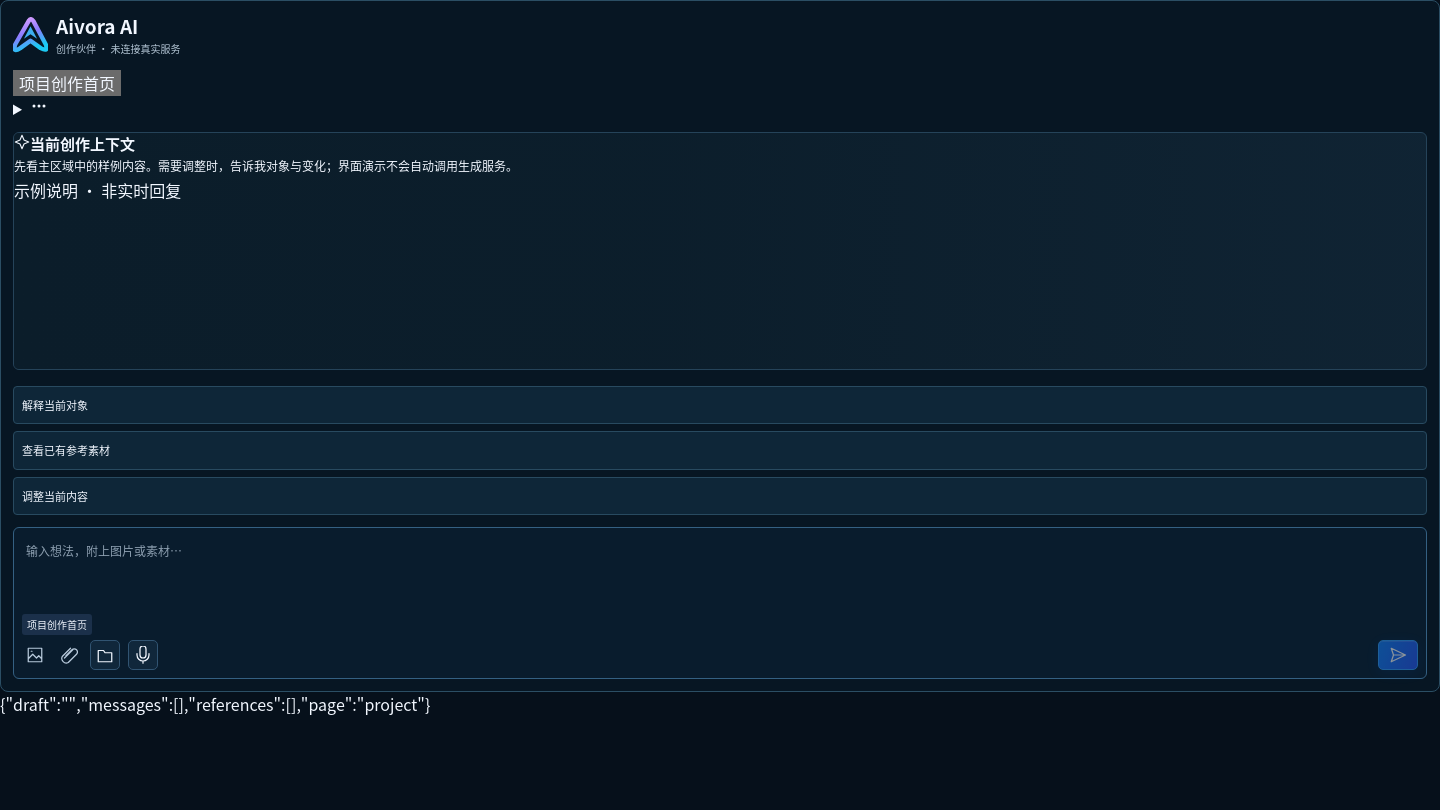
it: assistant panel local-only interaction › adds a chosen reference through the local editor without contacting an AI service
Click the button named "引用素材": [105, 655] box left=90, top=640, right=120, bottom=670
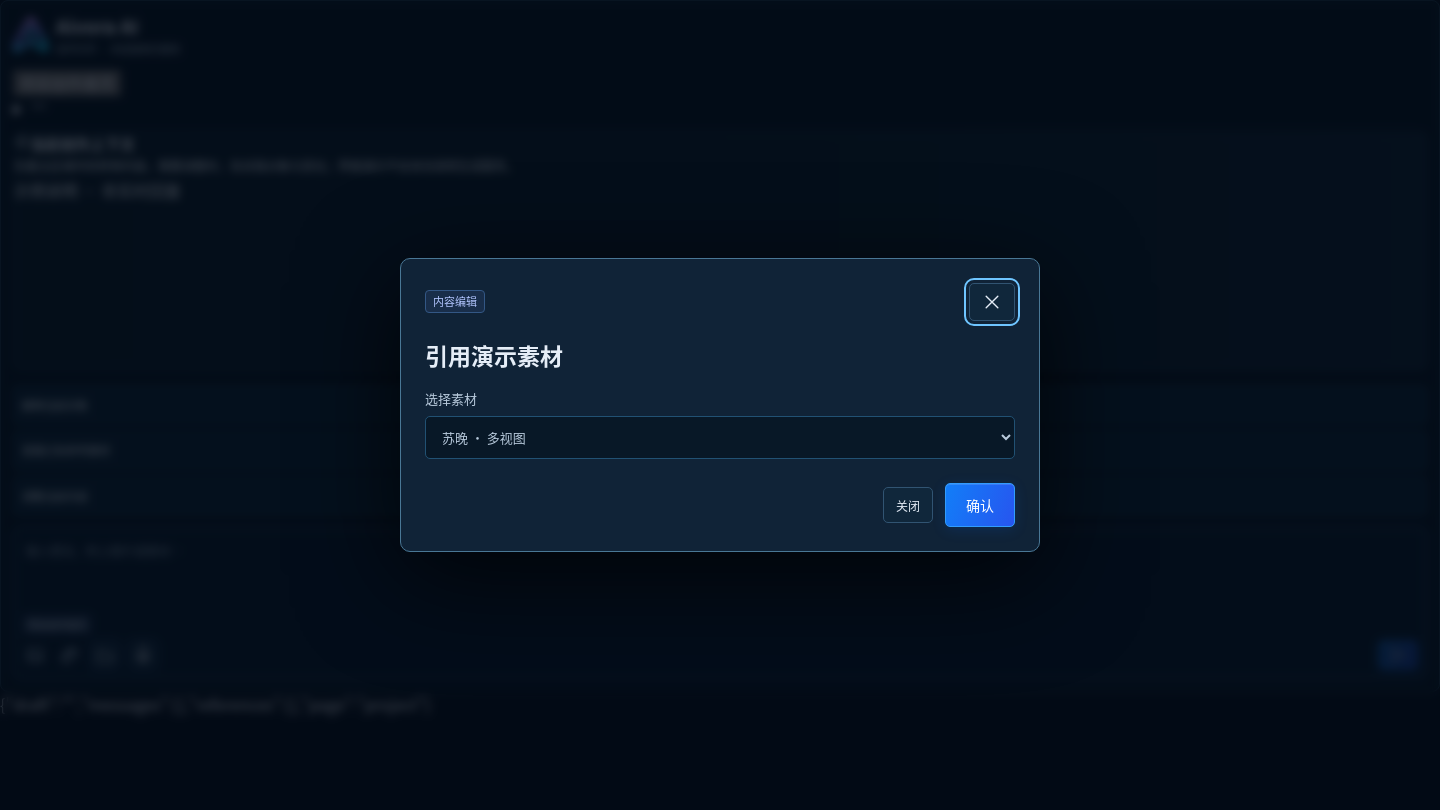
Expected: the dialog shows "引用演示素材", left=425, top=338, right=563, bottom=372
Select "城市全景" in the dropdown labelled "选择素材": [720, 438] box left=425, top=416, right=1015, bottom=459
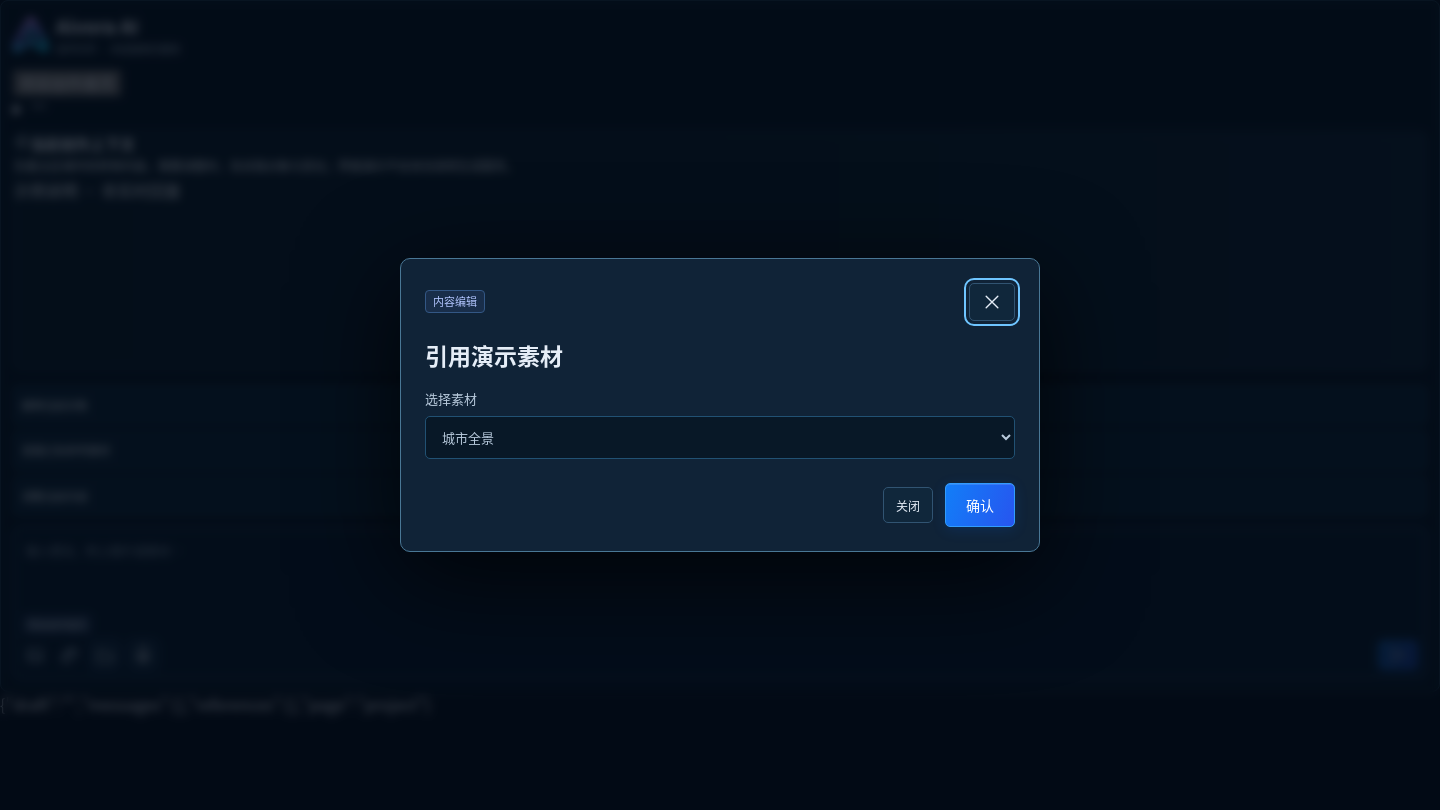
Click the button "确认": [980, 505] box left=945, top=483, right=1015, bottom=527
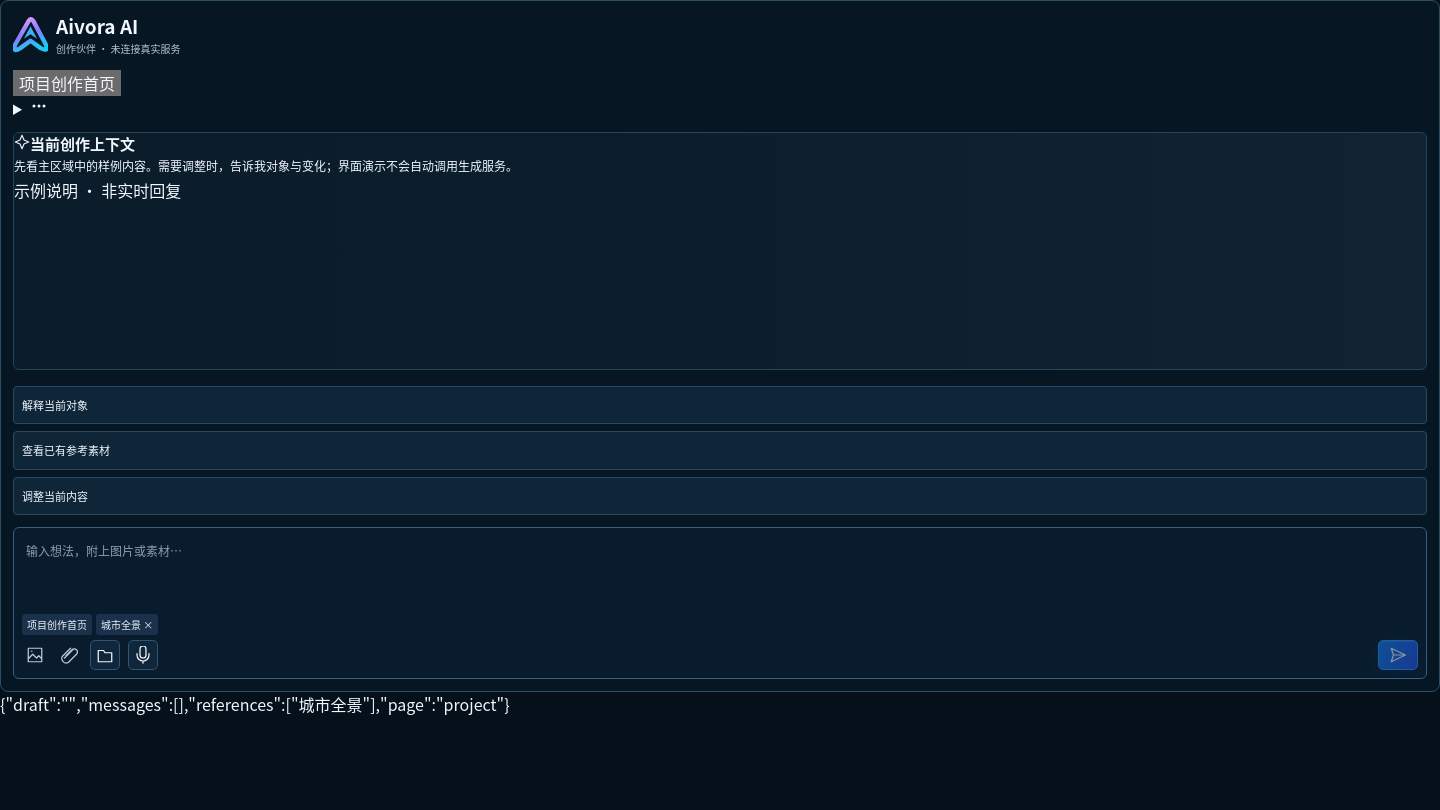
Expected: the button with aria-label "移除引用 城市全景" is shown, left=96, top=614, right=158, bottom=635
